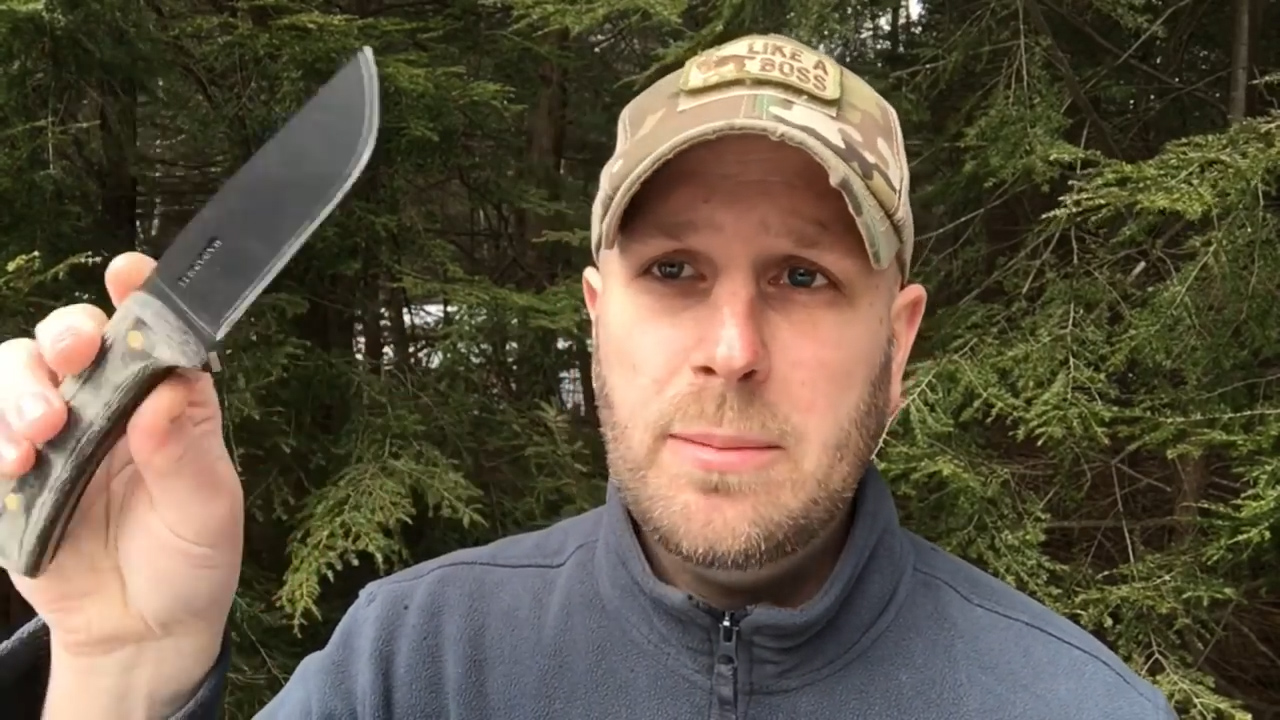knife: (1, 33, 413, 487)
